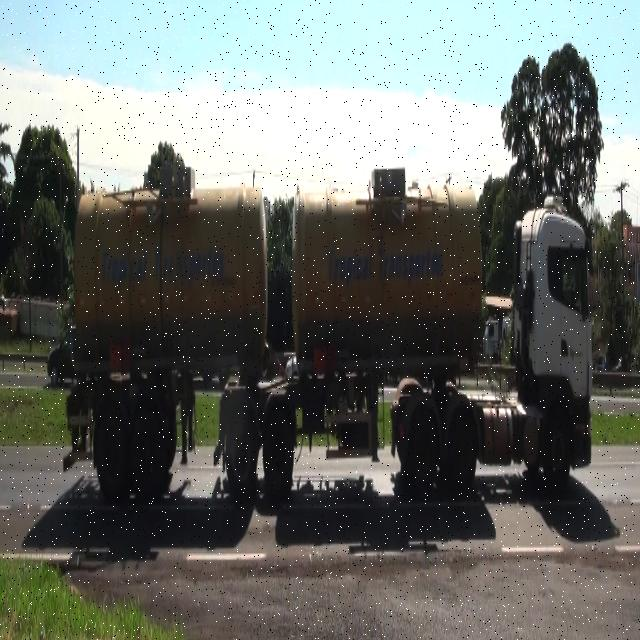-axle: (129, 397, 170, 504), (401, 409, 437, 507), (93, 404, 127, 500), (444, 406, 476, 495), (542, 403, 572, 496), (226, 406, 256, 497), (262, 414, 294, 497)
